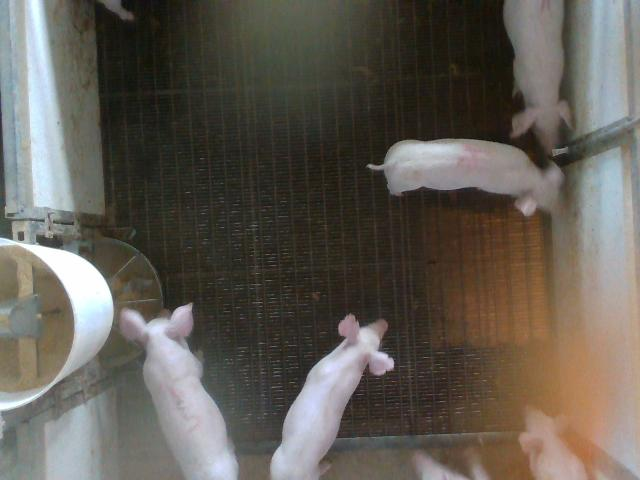pig-3: (119, 304, 238, 478)
pig-4: (368, 139, 564, 216)
